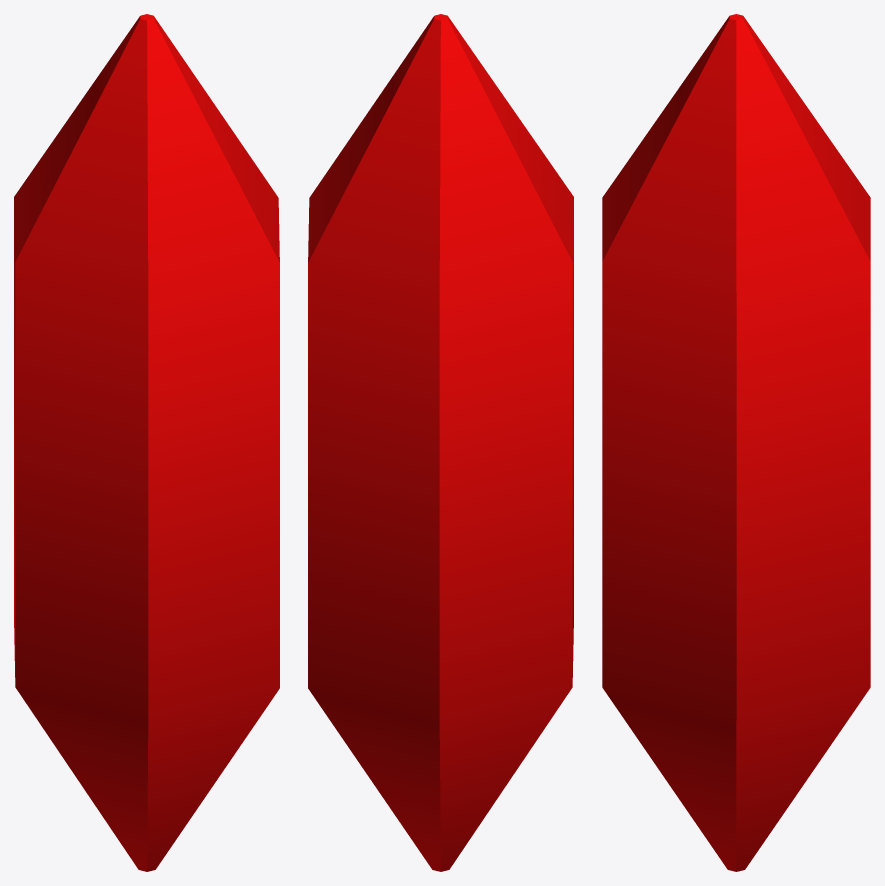
The model's file is skycrystal.obj.
3 views of the same model, side by side, from view 1: azimuth 30°, elevation 25°; view 2: azimuth 150°, elevation 25°; view 3: azimuth 270°, elevation 25° (orthographic).
Visible parts, largest first — view 1: g0; view 2: g0; view 3: g0.
Part boxes in pixels (box(x1,y1,x2,y2)): g0: box(14, 14, 279, 871); g0: box(308, 14, 573, 871); g0: box(602, 14, 870, 871).
Size of the model in its own units: 0.2592 by 0.8 by 0.2289.
